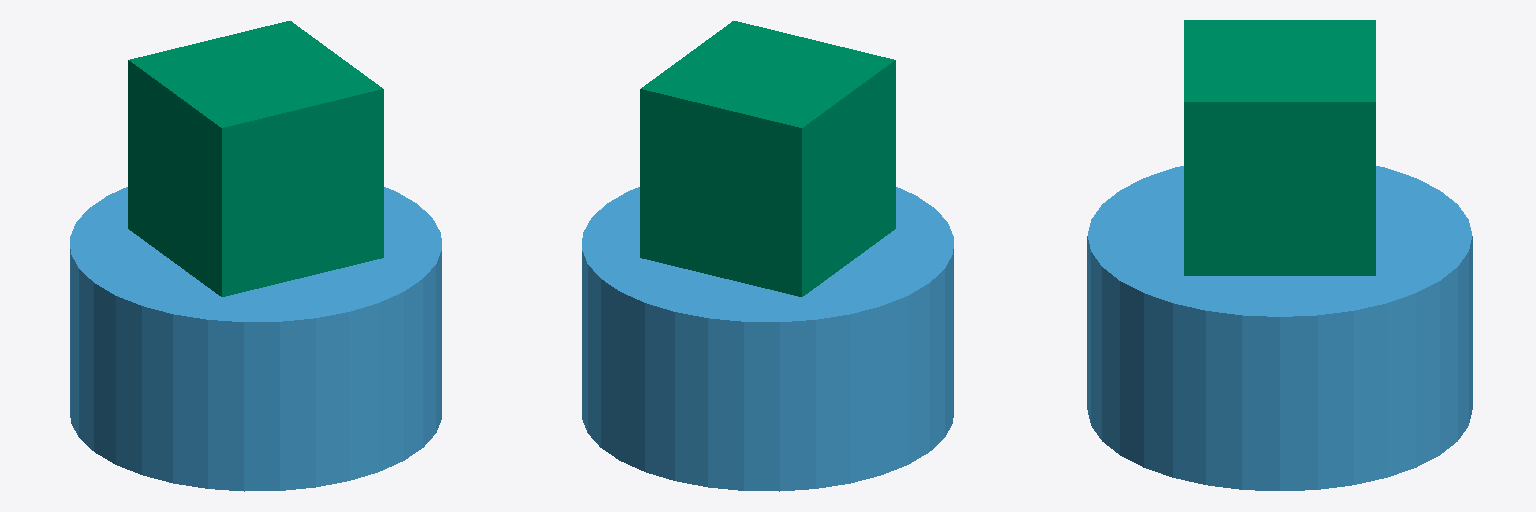
URDF robot description (robotArm):
<?xml version = "1.0"?>
<robot name = "robotArm">

<!-- base link -->
<link name = "base_link"/>
<!-- link -->

<link name = "link1">
    <visual>
        <geometry>
            <!-- make cylinder 0.1 m -->
            <cylinder length = "0.1" radius = "0.1"/>
        </geometry>
        <origin xyz = " 0 0 0 " rpy = "0 0 0" />
    </visual>

    <collision>
    <!-- gunchon -->
        <geometry>
            <!-- make cylinder 0.1 m มีหน่วยเป็นเมตร -->
            <cylinder length = "0.1" radius = "0.1"/>
        </geometry>
        <origin xyz = " 0 0 0 " rpy = "0 0 0" />
    </collision>

     <inertial>
        <origin xyz = " 0 0 0 " rpy = "0 0 0" />
        <mass value = "1"/>
        <!-- mass = kg มีหน่วยเป็นกิโล
        innertia คือความเค้นความเครียดมีหน่วยเป็น นิวตันเมตร-->
        <inertia ixx = "0.001" ixy = "0" ixz = "0" iyy = "0.001" iyz = "0" izz = "0.001"/>
    </inertial>
</link>

<!-- ////////////    joint    /////////// -->
<joint name = "joint1" type = "revolute">
<!-- การตั้งชื่อ และชนิด -->

    <parent link = "base_link"/>        <!-- สิ่งที่ติดอยู่กับ joint  -->
    <child link = "link1"/>     <!-- และติดอยู่กับลิ้ง 1  -->
    <origin xyz = "0 0 0" rpy = "0 0 0"/>       <!-- โดยศูนย์กลางจ้อยอยู่ที่ตำแหน่ง ..... -->
    <axis xyz = "0 0 1"/>       <!-- ให้แกน z ขึ้นไป 1 -->

    <limit lower = "-3.1416" upper = "3.1416" effort = "100" velocity = "1"/>
    <!-- ช่วงที่จ้อยสามารถขยับได้ น้อยสุดที่ -3.14 สูงสุดที่ 3.14 เอฟฟอดคือค่าความเฉื่อย เวโลซิตี้คือความเร็ว -->

</joint>

<link name = "link2">
    <visual>
        <geometry>
            <!-- make cylinder 0.1 m ทำเป็นบล็อค ก*ย*ส 10*10*10 cm-->
            <box size = "0.1 0.1 0.1"/>
        </geometry>
        <origin xyz = " 0 0 0 " rpy = "0 0 0" />
    </visual>

    <collision>
    <!-- gunchon -->
        <geometry>
            <!-- make cylinder 0.1 m มีหน่วยเป็นเมตร -->
            <cylinder length = "0.1" radius = "0.1"/>
        </geometry>
        <origin xyz = " 0 0 0 " rpy = "0 0 0" />
    </collision>

     <inertial>
        <origin xyz = " 0 0 0 " rpy = "0 0 0" />
        <mass value = "1"/>
        <!-- mass = kg มีหน่วยเป็นกิโล
        innertia คือความเค้นความเครียดมีหน่วยเป็น นิวตันเมตร-->
        <inertia ixx = "0.001" ixy = "0" ixz = "0" iyy = "0.001" iyz = "0" izz = "0.001"/>
    </inertial>
</link>

<!-- ////////////    joint2    /////////// -->
<joint name = "joint2" type = "prismatic">
<!-- การตั้งชื่อ และชนิด -->

    <parent link = "link1"/>        <!-- สิ่งที่ติดอยู่กับ joint  -->
    <child link = "link2"/>     <!-- และติดอยู่กับลิ้ง 1  -->
    <origin xyz = "0 0 0.1" rpy = "0 0 0"/>       <!-- โดยศูนย์กลางจ้อยอยู่ที่ตำแหน่ง ..... -->
    <axis xyz = "0 1 0"/>       <!-- ให้แกน z ขึ้นไป 1 -->

    <limit lower = "-0.2" upper = "0.2" effort = "100" velocity = "1"/>
    <!-- ช่วงที่จ้อยสามารถขยับได้ น้อยสุดที่ -3.14 สูงสุดที่ 3.14 เอฟฟอดคือค่าความเฉื่อย เวโลซิตี้คือความเร็ว -->

</joint>
</robot>

--- Facts derived from the render (not from the file) ---
Views: 3 orthographic renders of the robot side by side, from view 1: azimuth 30°, elevation 25°; view 2: azimuth 150°, elevation 25°; view 3: azimuth 270°, elevation 25°.
Model robotArm with 3 links and 2 joints (1 revolute, 1 prismatic), rooted at base_link, posed all joints at 0.
Visible links, largest first — view 1: link1, link2; view 2: link1, link2; view 3: link1, link2.
Boxes of the visible links, x1,y1,x2,y2 form: link1: [70, 187, 441, 491]; link2: [128, 21, 383, 296]; link1: [582, 187, 953, 491]; link2: [640, 21, 895, 296]; link1: [1087, 166, 1472, 490]; link2: [1184, 20, 1375, 275].
Bounding box of the posed robot: 0.2 × 0.2 × 0.2 m (x, y, z).
Geometry: primitives only (box / cylinder / sphere), no mesh files.
